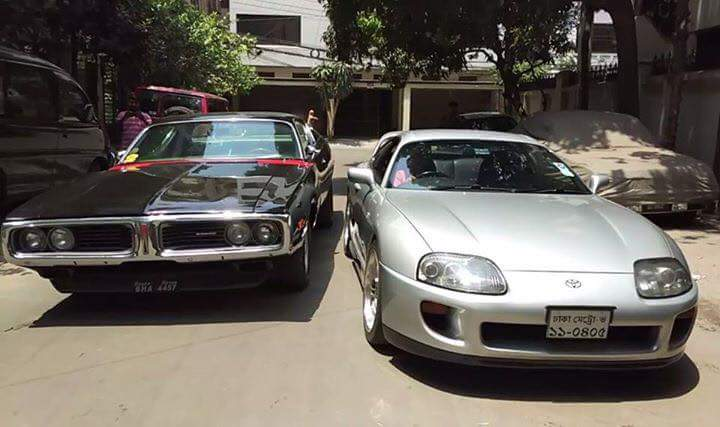registration_plate: (544, 307, 611, 337)
